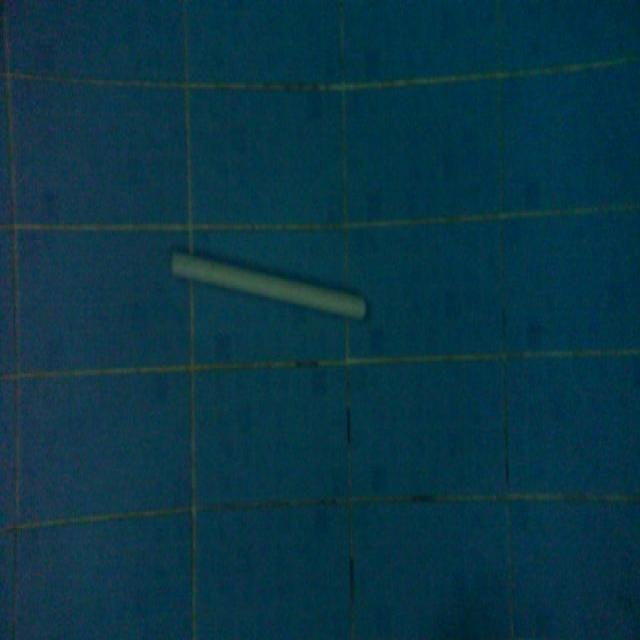Cube: (169, 242, 369, 325)
